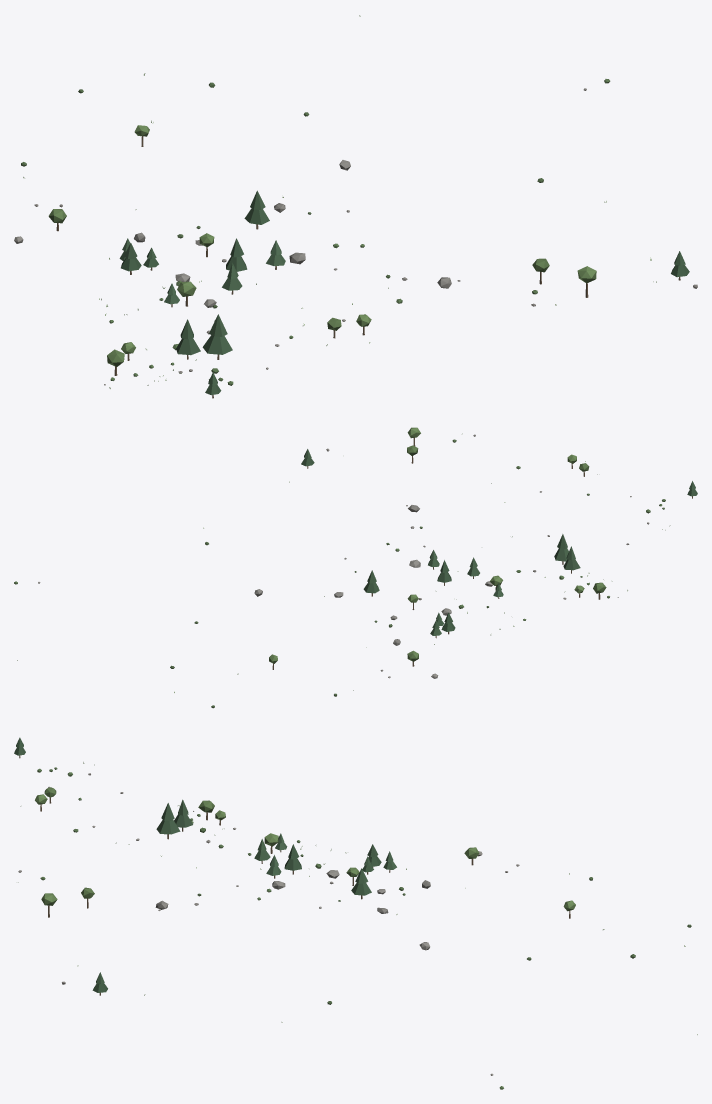
File: arch_land_scatter_c18_17_lod1.glb
3 renders of one model, top to bottom at view 1: azimuth 30°, elevation 25°; view 2: azimuth 150°, elevation 25°; view 3: azimuth 270°, elevation 25°, orthographic. The views are drawn at different scales.
Visible parts, largest first — view 1: arch_land_scatter_c18_17_lod1; view 2: arch_land_scatter_c18_17_lod1; view 3: arch_land_scatter_c18_17_lod1.
Boxes of the visible parts, box(x1,y1,x2,y2) form: arch_land_scatter_c18_17_lod1: box(14, 15, 697, 398); arch_land_scatter_c18_17_lod1: box(14, 427, 697, 708); arch_land_scatter_c18_17_lod1: box(14, 737, 697, 1089).
Bounding box in the file's own units: 244 × 36.56 × 256.
